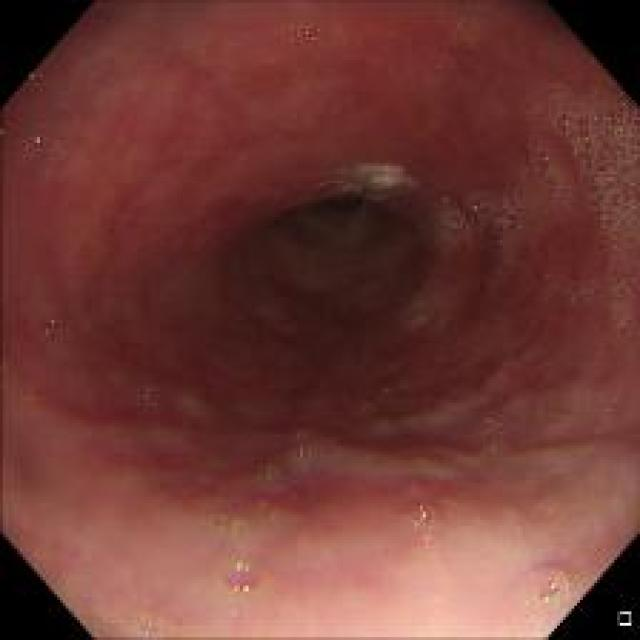bubbles: (526, 79, 634, 335), (421, 186, 542, 255), (428, 1, 479, 74), (519, 552, 580, 610), (396, 474, 439, 548), (255, 442, 315, 489), (275, 14, 324, 61), (218, 558, 275, 596), (205, 502, 248, 541), (475, 409, 508, 454), (134, 379, 162, 408), (40, 308, 64, 338), (134, 615, 160, 638), (592, 404, 616, 428), (20, 380, 39, 399), (546, 412, 562, 434), (424, 72, 438, 91), (431, 561, 446, 578)
color misalignment: (601, 98, 632, 134), (539, 580, 571, 606), (21, 130, 52, 154), (231, 559, 252, 594), (538, 141, 555, 169), (28, 68, 46, 81)
